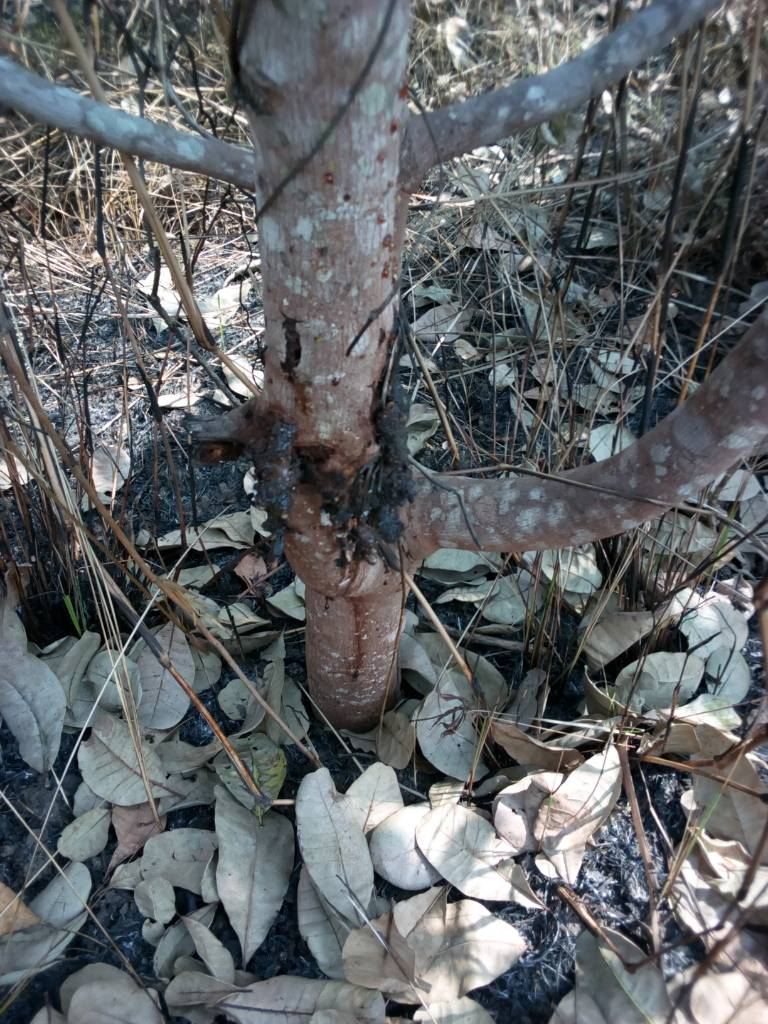Gommose: (219, 410, 394, 538), (360, 402, 418, 546)
